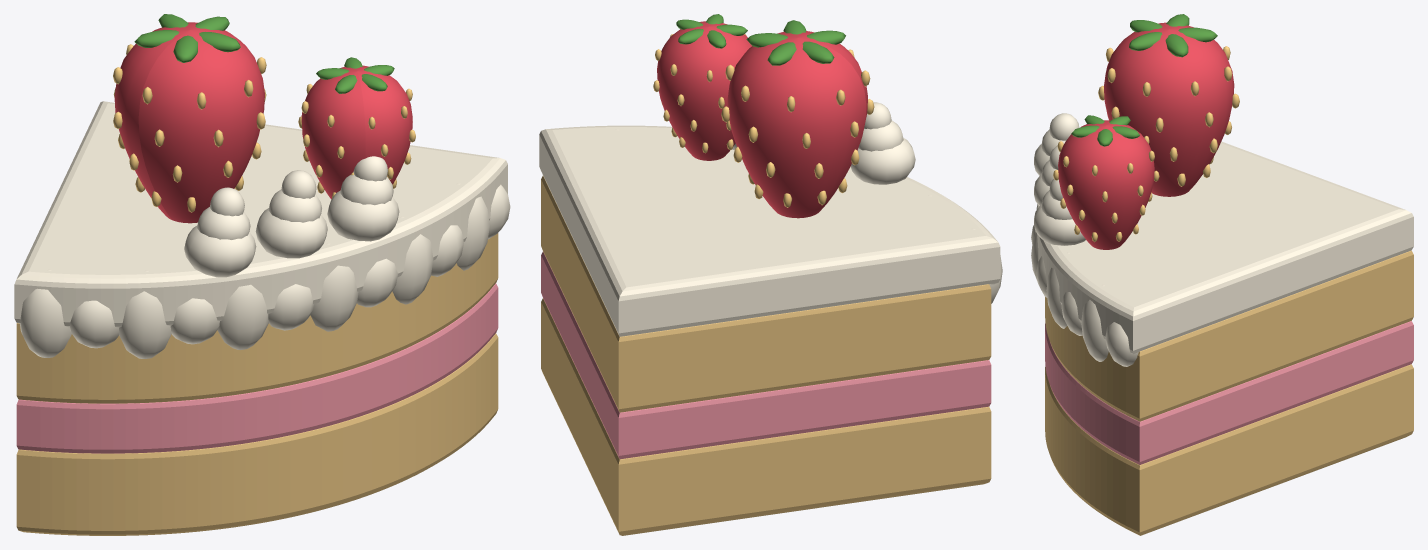
The model's file is cake.glb.
3 renders of one model, left to right at view 1: azimuth 30°, elevation 25°; view 2: azimuth 150°, elevation 25°; view 3: azimuth 270°, elevation 25°, orthographic. The views are drawn at different scales.
Visible parts, largest first — view 1: Vanilla cream, Soft golden sponge, Strawberry red, Strawberry filling, Leaf green, Strawberry seeds; view 2: Soft golden sponge, Vanilla cream, Strawberry red, Strawberry filling, Leaf green, Strawberry seeds; view 3: Soft golden sponge, Vanilla cream, Strawberry red, Strawberry filling, Leaf green, Strawberry seeds.
Boxes of the visible parts, x1,y1,x2,y2 form: Vanilla cream: (14, 101, 510, 358); Soft golden sponge: (16, 233, 498, 535); Strawberry red: (114, 22, 412, 223); Strawberry filling: (16, 283, 498, 453); Leaf green: (134, 14, 394, 93); Strawberry seeds: (113, 44, 415, 212); Soft golden sponge: (541, 176, 991, 535); Vanilla cream: (539, 102, 1002, 336); Strawberry red: (657, 21, 867, 218); Strawberry filling: (541, 251, 991, 459); Leaf green: (676, 14, 845, 65); Strawberry seeds: (653, 34, 874, 207); Soft golden sponge: (1045, 250, 1413, 535); Vanilla cream: (1031, 113, 1413, 366); Strawberry red: (1058, 22, 1234, 249); Strawberry filling: (1045, 321, 1413, 464); Leaf green: (1071, 14, 1217, 146); Strawberry seeds: (1053, 46, 1239, 241).
Bounding box in the file's own units: 0.1489 × 0.1289 × 0.1153.
